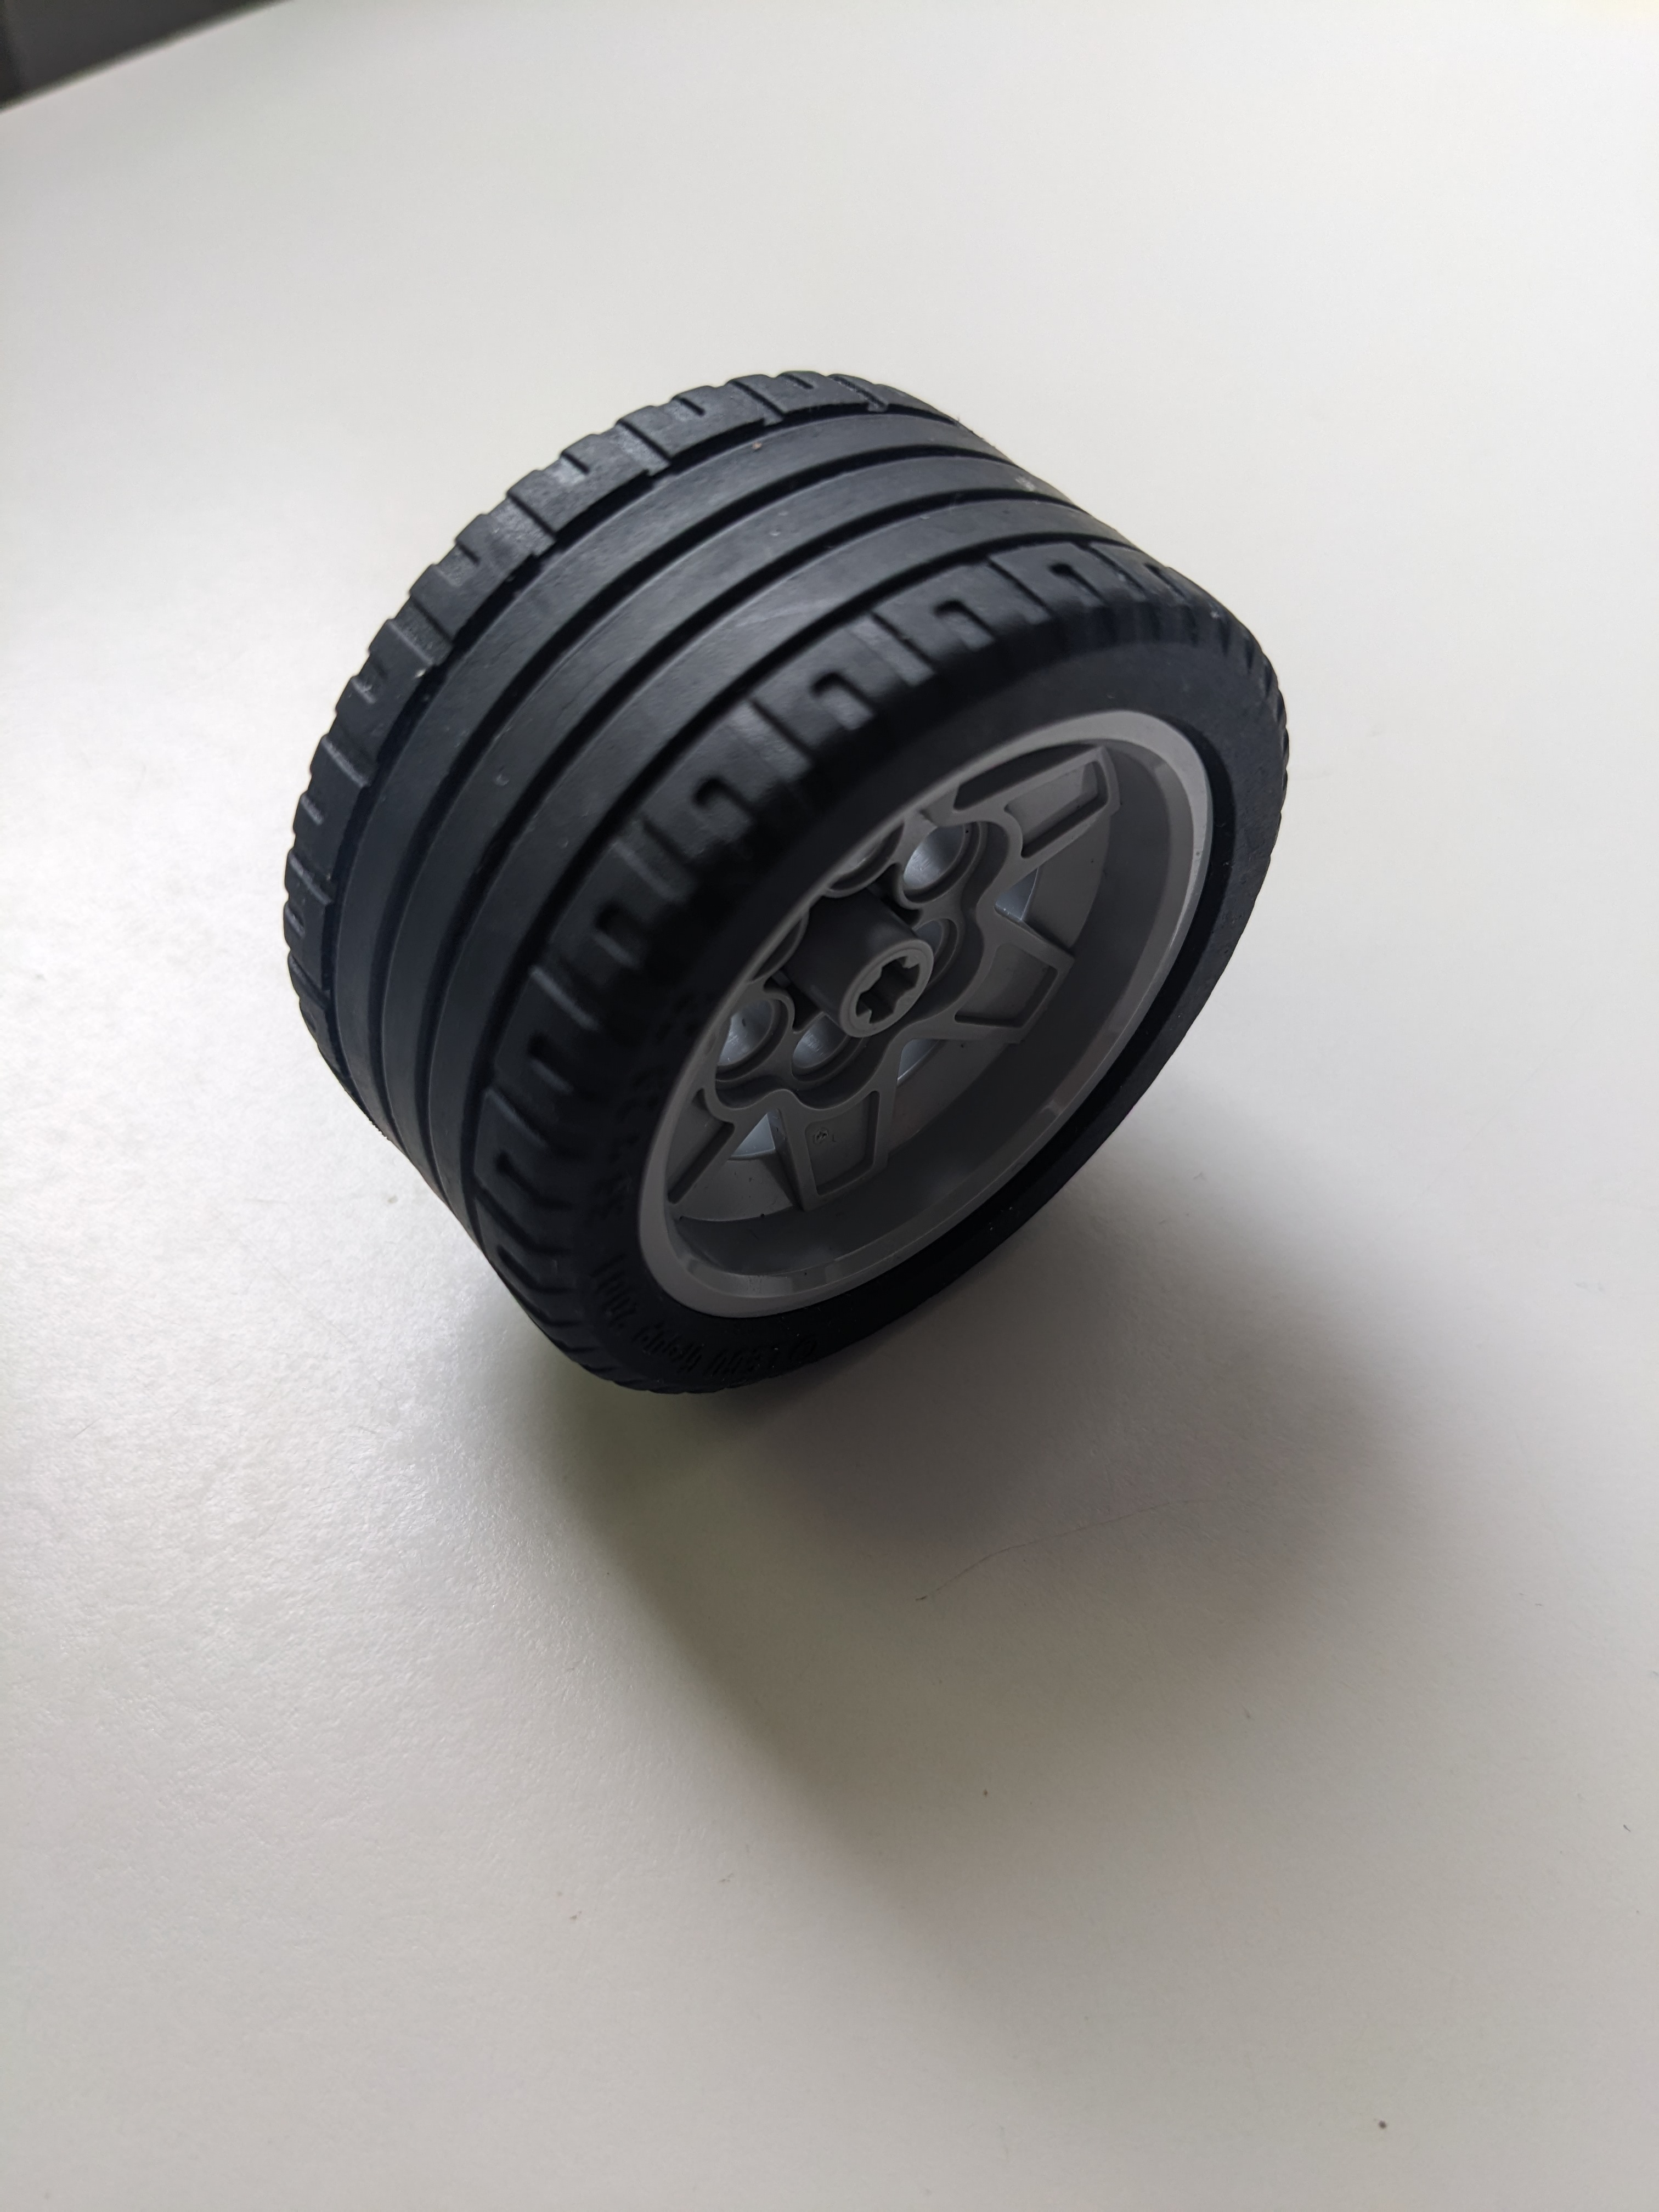Rad: (251, 343, 1309, 1418)
